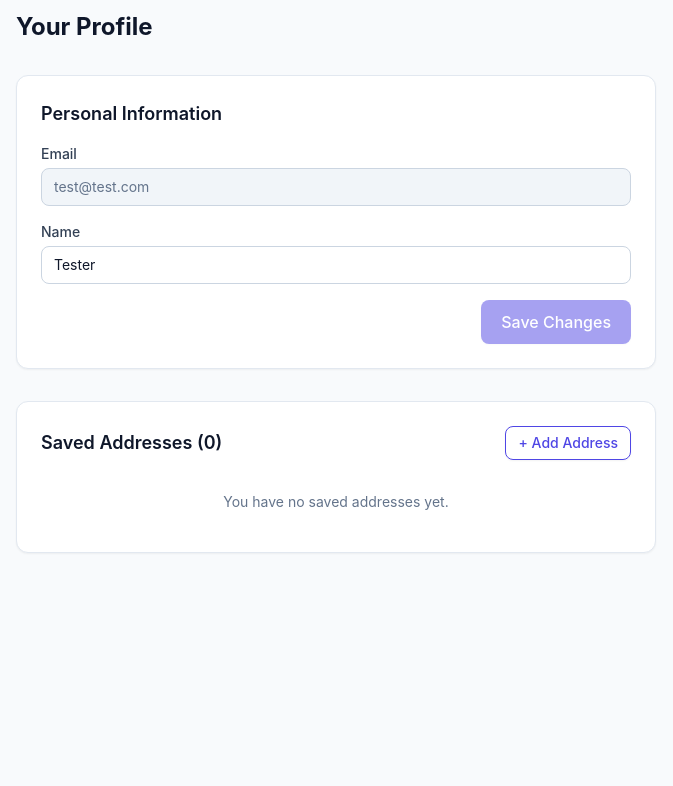
Test: ProfilePage › opens inline add address form
Click the button with test id "add-address-button".
click(568, 443)  # box [506, 426, 631, 460]
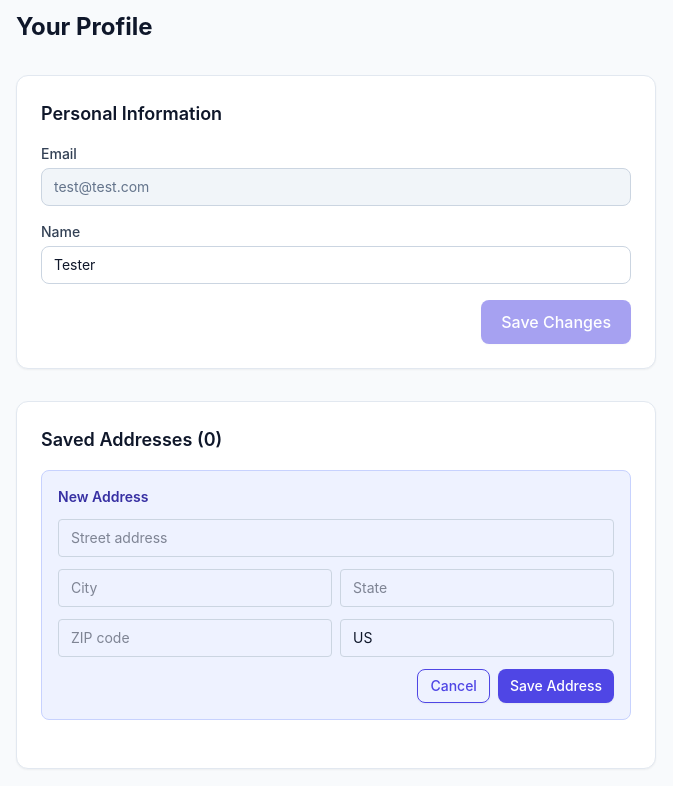
Check: the form with test id "add-address-form" is shown, box [41, 470, 631, 720]
Check: the button with test id "save-new-address-button" is shown, box [498, 669, 614, 703]
